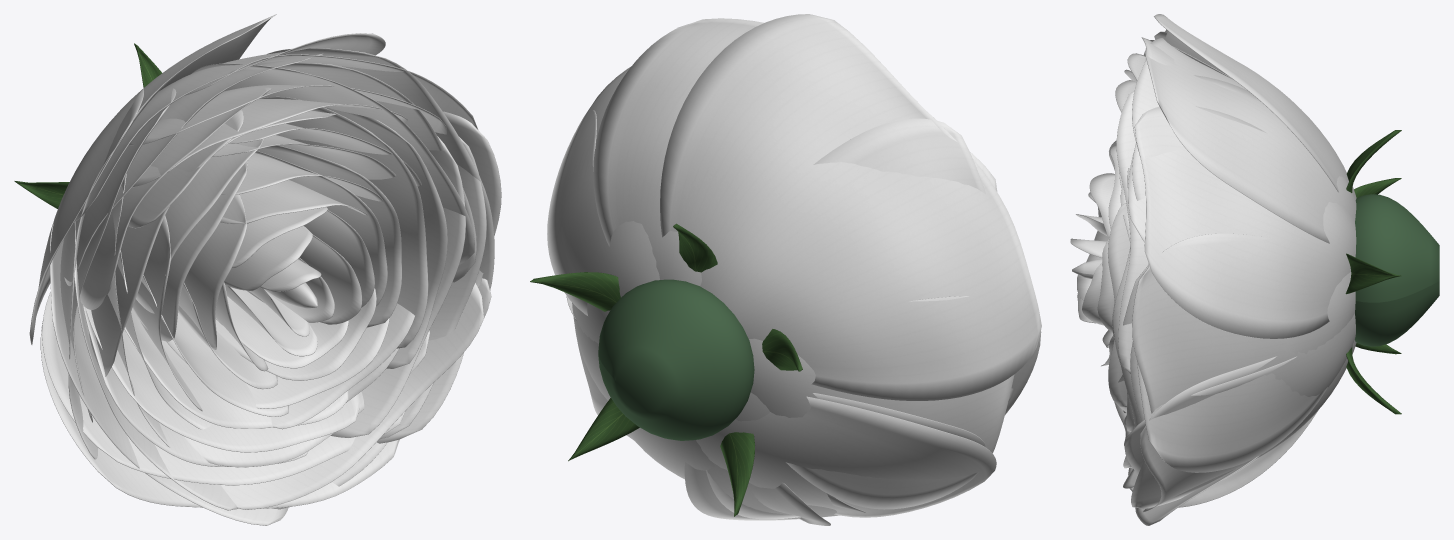
File: rose-1-high.glb
3 renders of one model, left to right at view 1: azimuth 30°, elevation 25°; view 2: azimuth 150°, elevation 25°; view 3: azimuth 270°, elevation 25°, orthographic. The views are drawn at different scales.
Parts seen in each view (by area): view 1: Rose_1_high_Petals, Rose_1_high_Sepals; view 2: Rose_1_high_Petals, Rose_1_high_Receptacle, Rose_1_high_Sepals; view 3: Rose_1_high_Petals, Rose_1_high_Receptacle, Rose_1_high_Sepals.
Boxes of the visible parts, x1=… form: Rose_1_high_Petals: x1=29, y1=14, x2=501, y2=525; Rose_1_high_Sepals: x1=14, y1=43, x2=161, y2=208; Rose_1_high_Petals: x1=547, y1=14, x2=1041, y2=525; Rose_1_high_Receptacle: x1=598, y1=279, x2=754, y2=440; Rose_1_high_Sepals: x1=530, y1=223, x2=802, y2=516; Rose_1_high_Petals: x1=1070, y1=14, x2=1356, y2=525; Rose_1_high_Receptacle: x1=1355, y1=194, x2=1439, y2=346; Rose_1_high_Sepals: x1=1345, y1=130, x2=1401, y2=414.
Bounding box in the file's own units: 0.6919 × 0.7127 × 0.5068.
3 materials, 2 textured.
